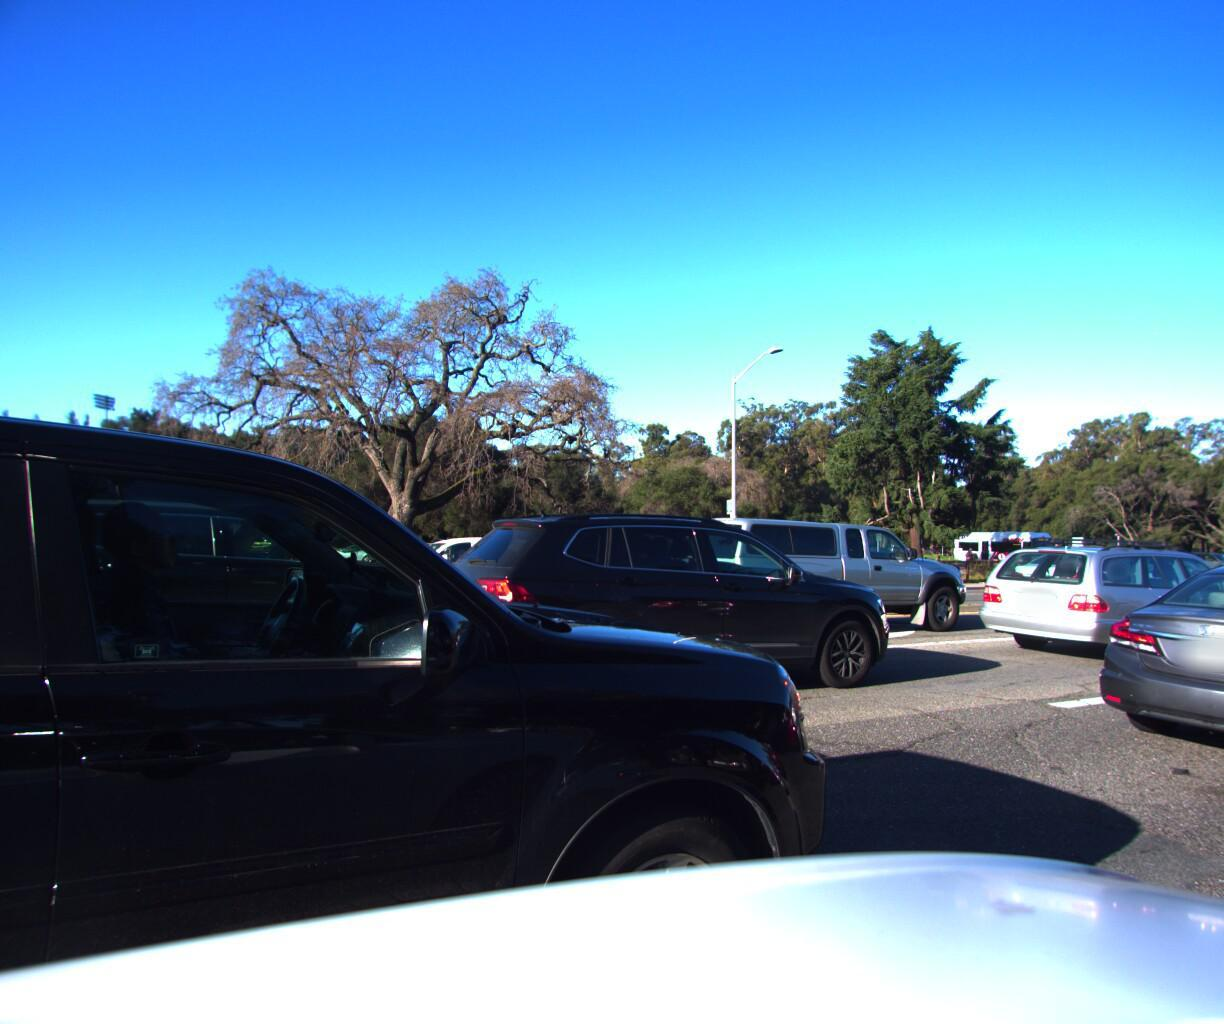car: (0, 0, 882, 1024), (426, 489, 900, 717), (0, 476, 473, 682), (686, 511, 980, 641), (1083, 551, 1224, 804), (972, 536, 1224, 666), (341, 529, 535, 606)
